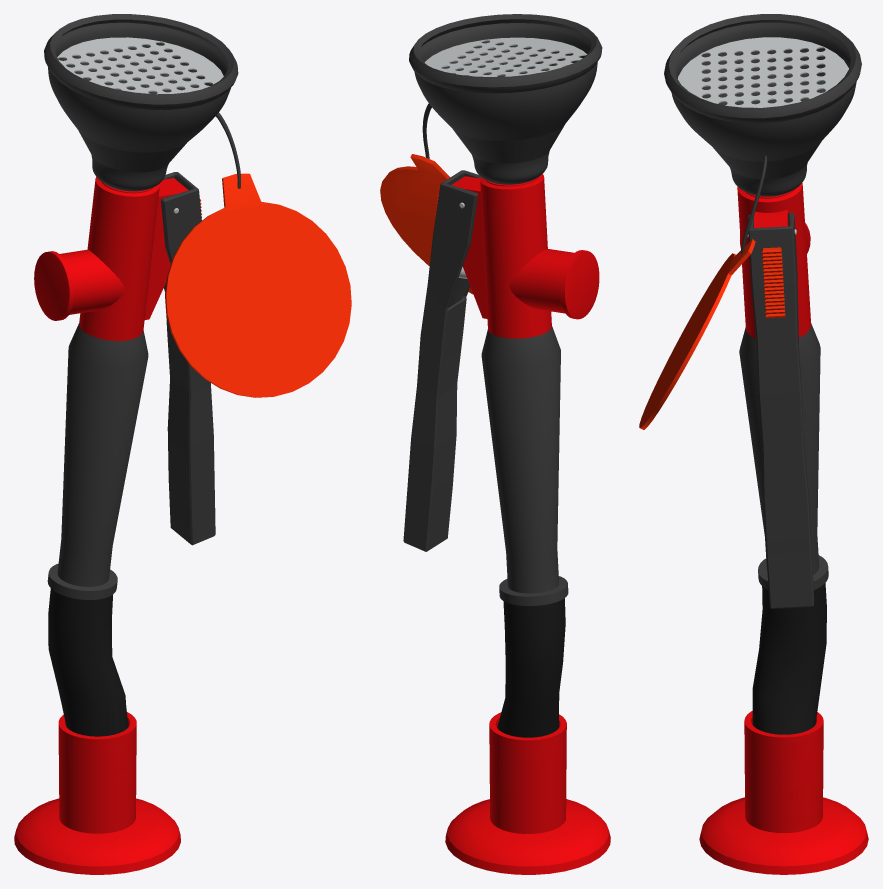
Rendered from eyeshower_2.gltf.
The picture shows the model from 3 angles, left to right: view 1: azimuth 30°, elevation 25°; view 2: azimuth 150°, elevation 25°; view 3: azimuth 270°, elevation 25°; orthographic projection. The views are drawn at different scales.
Parts seen in each view (by area): view 1: Circle.023, Cylinder.185, Cylinder.184, Cylinder.183, Cylinder.182, Cube.035, Cylinder.189, Circle.022; view 2: Cylinder.185, Cylinder.184, Cylinder.183, Cube.035, Cylinder.182, Cylinder.189, Circle.023, Circle.022; view 3: Cylinder.185, Cylinder.183, Cube.035, Cylinder.189, Circle.022, Cylinder.184, Cylinder.182, Circle.023, Cube.036.
Part boxes in pixels (bbox=[...]): Circle.023: bbox=[165, 173, 351, 397]; Cylinder.185: bbox=[44, 14, 238, 191]; Cylinder.184: bbox=[47, 323, 148, 599]; Cylinder.183: bbox=[14, 712, 180, 874]; Cylinder.182: bbox=[34, 177, 188, 340]; Cube.035: bbox=[161, 172, 215, 545]; Cylinder.189: bbox=[48, 588, 128, 736]; Circle.022: bbox=[57, 37, 223, 94]; Cylinder.185: bbox=[409, 14, 602, 184]; Cylinder.184: bbox=[481, 326, 568, 606]; Cylinder.183: bbox=[445, 712, 610, 874]; Cube.035: bbox=[403, 170, 480, 551]; Cylinder.182: bbox=[452, 174, 599, 338]; Cylinder.189: bbox=[497, 598, 565, 737]; Circle.023: bbox=[380, 154, 473, 294]; Circle.022: bbox=[424, 37, 586, 76]; Cylinder.185: bbox=[664, 14, 861, 196]; Cylinder.183: bbox=[699, 711, 868, 874]; Cube.035: bbox=[747, 212, 814, 608]; Cylinder.189: bbox=[752, 583, 826, 734]; Circle.022: bbox=[678, 37, 848, 107]; Cylinder.184: bbox=[739, 323, 828, 589]; Cylinder.182: bbox=[737, 183, 811, 338]; Circle.023: bbox=[639, 239, 755, 429]; Cube.036: bbox=[762, 247, 785, 317].
Size of the model in its own units: 0.2394 by 0.6719 by 0.1739.
5 materials, 3 textured.
